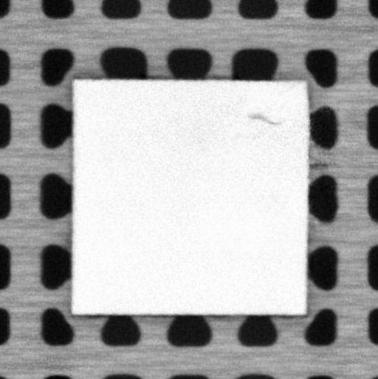DIE_INK: (246, 112, 285, 126)
